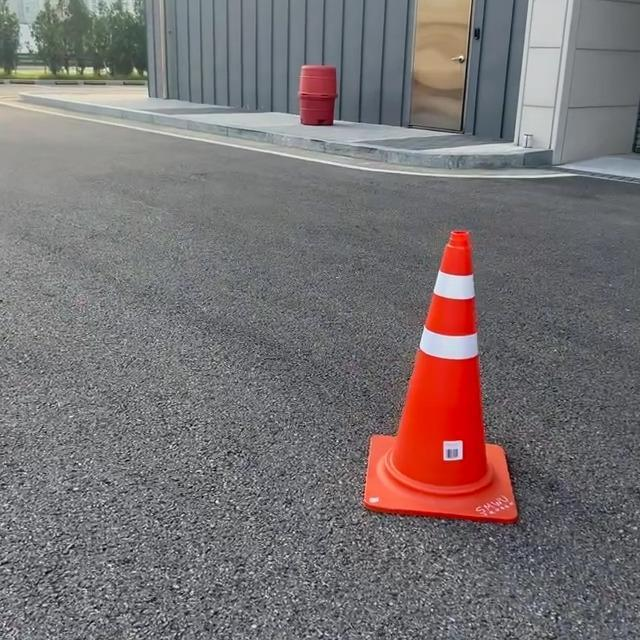fallen_object: (340, 200, 541, 533)
